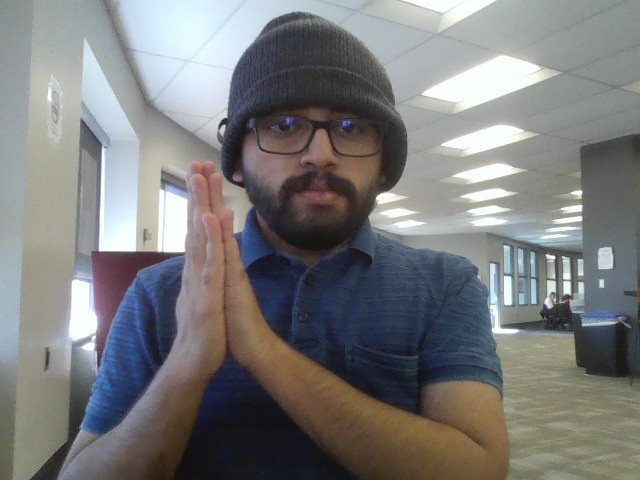start: (160, 161, 280, 366), (160, 161, 270, 369)
